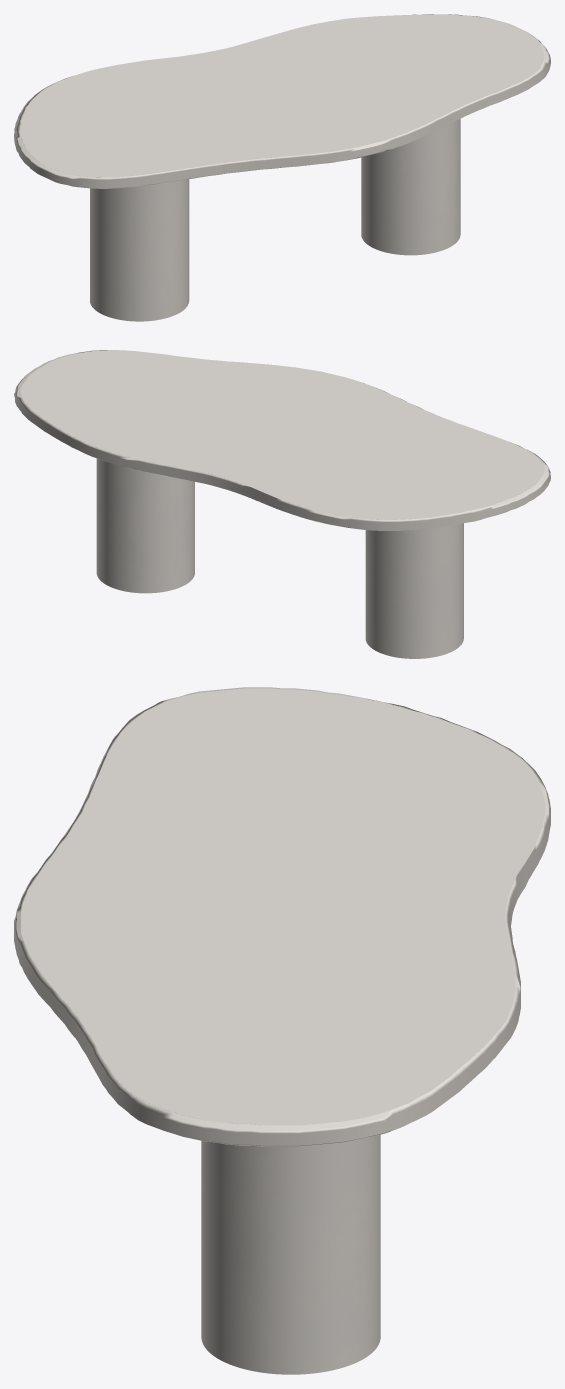
The model's file is pearlwhite_toplast_round_stream.glb.
The picture shows the model from 3 angles, top to bottom: view 1: azimuth 30°, elevation 25°; view 2: azimuth 150°, elevation 25°; view 3: azimuth 270°, elevation 25°; orthographic projection. The views are drawn at different scales.
Visible parts, largest first — view 1: round_toplast, stream; view 2: round_toplast, stream; view 3: round_toplast, stream.
Boxes of the visible parts, x1,y1,x2,y2 form: round_toplast: (14, 14, 550, 188); stream: (90, 119, 460, 321); round_toplast: (14, 350, 550, 530); stream: (96, 458, 463, 658); round_toplast: (14, 687, 550, 1146); stream: (201, 1134, 380, 1374).
Size of the model in its own units: 7.68 by 2.5 by 3.89.
Materials: 1 (1 with a texture image).
